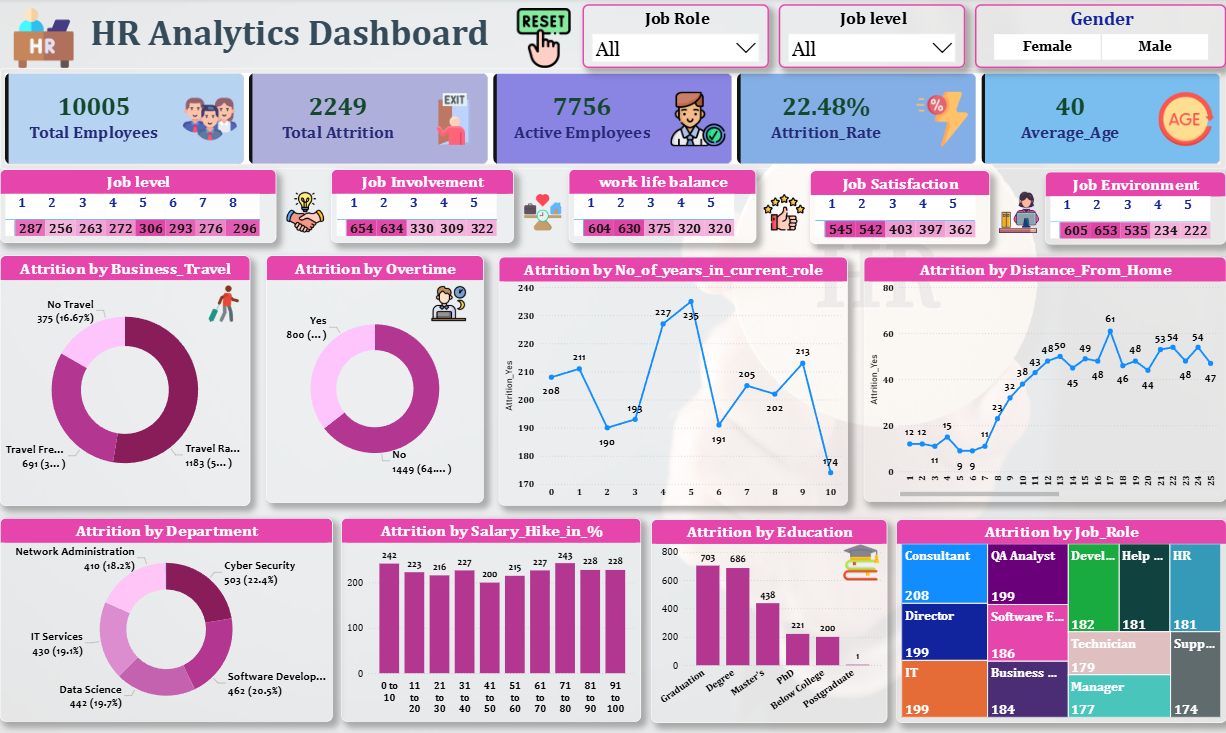

Layout of this report page (visuals, bound fields, positions):
{"tool":"powerbi","page":{"name":"Page 1","canvas":[2000,1200],"ordinal":0},"visuals":[{"type":"cardVisual","fields":{"Data":["CountNonNull(Employees.Employee_ID)","Employees.Attrition_Yes","Employees.Attrition_No","Employees.Attrition_Rate","Employees.Average_Age"]},"box":[0,114.1,1999.3,165.1],"z":0},{"type":"donutChart","title":"Attrition by Department","fields":{"Category":["Employees.Department"],"Y":["Employees.Attrition_Yes"]},"box":[0,847.8,542.1,332.2],"z":1000},{"type":"treemap","title":"Attrition by Job_Role","fields":{"Group":["Employees.Job_Role"],"Values":["Employees.Attrition_Yes"]},"box":[1461.3,849.9,538,332.2],"z":2000},{"type":"lineChart","title":"Attrition by Distance_From_Home","fields":{"Category":["Employees.Distance_From_Home"],"Y":["Employees.Attrition_Yes"]},"box":[1408.3,421.9,591,399.5],"z":3000},{"type":"donutChart","title":"Attrition by Overtime","fields":{"Y":["Employees.Attrition_Yes"],"Category":["Employees.Overtime"]},"box":[433.4,419.8,354.6,403.5],"z":4000},{"type":"pivotTable","title":"Job Satisfaction","fields":{"Columns":["Employees.Job_Satisfaction"],"Values":["Employees.Attrition_Yes"]},"box":[1321.2,281.3,293.5,120.2],"z":5000},{"type":"pivotTable","title":"Job Environment","fields":{"Values":["Employees.Attrition_Yes"],"Columns":["Employees.Environment_Satisfaction"]},"box":[1703.8,283.3,295.5,118.2],"z":6000},{"type":"pivotTable","title":"work life balance","fields":{"Columns":["Employees.Work_life_balance"],"Values":["Employees.Attrition_Yes"]},"box":[926.3,279.2,305.7,120.2],"z":7000},{"type":"donutChart","title":"Attrition by Business_Travel","fields":{"Category":["Employees.Business_Travel"],"Y":["Employees.Attrition_Yes"]},"box":[0,419.8,407.6,407.6],"z":8000},{"type":"lineChart","title":"Attrition by No_of_years_in_current_role","fields":{"Category":["Employees.No_of_years_in_current_role"],"Y":["Employees.Attrition_Yes"]},"box":[813.9,421.9,568.6,405.6],"z":9000},{"type":"columnChart","title":"Attrition by Salary_Hike_in_%","fields":{"Y":["Employees.Attrition_Yes"],"Category":["Employees.Salary_Hike_in_percent (groups)"]},"box":[557.1,847.8,489.1,332.2],"z":10000},{"type":"columnChart","title":"Attrition by Education","fields":{"Y":["Employees.Attrition_Yes"],"Category":["Employees.Education"]},"box":[1061.1,849.9,385.2,332.2],"z":11000},{"type":"pivotTable","title":"Job Involvement","fields":{"Values":["Employees.Attrition_Yes"],"Columns":["Employees.Job_Involvement"]},"box":[539.6,279.2,297.6,120.2],"z":12000},{"type":"pivotTable","title":"Job level","fields":{"Values":["Employees.Attrition_Yes"],"Columns":["Employees.job_level"]},"box":[0,279.2,450.4,120.2],"z":13000},{"type":"textbox","box":[142.7,16.3,721.5,97.8],"z":14000},{"type":"image","box":[0,16.3,142.7,97.8],"z":15000},{"type":"image","box":[1614.1,315.9,93.8,67.3],"z":16000},{"type":"image","box":[1233,315.9,91.7,67.3],"z":17000},{"type":"image","box":[837.6,315.9,93.8,67.3],"z":18000},{"type":"image","box":[450.4,315.9,93.8,67.3],"z":19000},{"type":"image","box":[322,468.8,85.6,59.1],"z":20000},{"type":"image","box":[688.9,468.8,85.6,59.1],"z":21000},{"type":"image","box":[1361.4,890.6,85.6,59.1],"z":22000},{"type":"slicer","title":"Gender","fields":{"Values":["Employees.Gender"]},"box":[1589.7,10.2,409.6,103.9],"z":23000},{"type":"slicer","title":"Job level","fields":{"Values":["Employees.job_level"]},"box":[1269.7,10.2,303.7,103.9],"z":24000},{"type":"slicer","title":"Job Role","fields":{"Values":["Employees.Job_Role"]},"box":[949.7,10.2,303.7,103.9],"z":25000},{"type":"image","box":[823.4,16.3,126.4,97.8],"z":26000}]}

Visuals, with their boxes in screenshot pixels (x1, y1, x2, y2), scaled from the page's 2000x1200 canvas onto the 1226x733 screenshot:
cardVisual - CountNonNull(Employees.Employee_ID) x Employees.Attrition_Yes: 0, 70, 1225, 171
"Attrition by Department" donutChart: 0, 518, 332, 721
"Attrition by Job_Role" treemap: 896, 519, 1225, 722
"Attrition by Distance_From_Home" lineChart: 863, 258, 1225, 502
"Attrition by Overtime" donutChart: 266, 256, 483, 503
"Job Satisfaction" pivotTable: 810, 172, 990, 245
"Job Environment" pivotTable: 1044, 173, 1225, 245
"work life balance" pivotTable: 568, 171, 755, 244
"Attrition by Business_Travel" donutChart: 0, 256, 250, 505
"Attrition by No_of_years_in_current_role" lineChart: 499, 258, 847, 505
"Attrition by Salary_Hike_in_%" columnChart: 342, 518, 641, 721
"Attrition by Education" columnChart: 650, 519, 887, 722
"Job Involvement" pivotTable: 331, 171, 513, 244
"Job level" pivotTable: 0, 171, 276, 244
textbox: 87, 10, 530, 70
image: 0, 10, 87, 70
image: 989, 193, 1047, 234
image: 756, 193, 812, 234
image: 513, 193, 571, 234
image: 276, 193, 334, 234
image: 197, 286, 250, 322
image: 422, 286, 475, 322
image: 835, 544, 887, 580
"Gender" slicer: 974, 6, 1225, 70
"Job level" slicer: 778, 6, 964, 70
"Job Role" slicer: 582, 6, 768, 70
image: 505, 10, 582, 70
